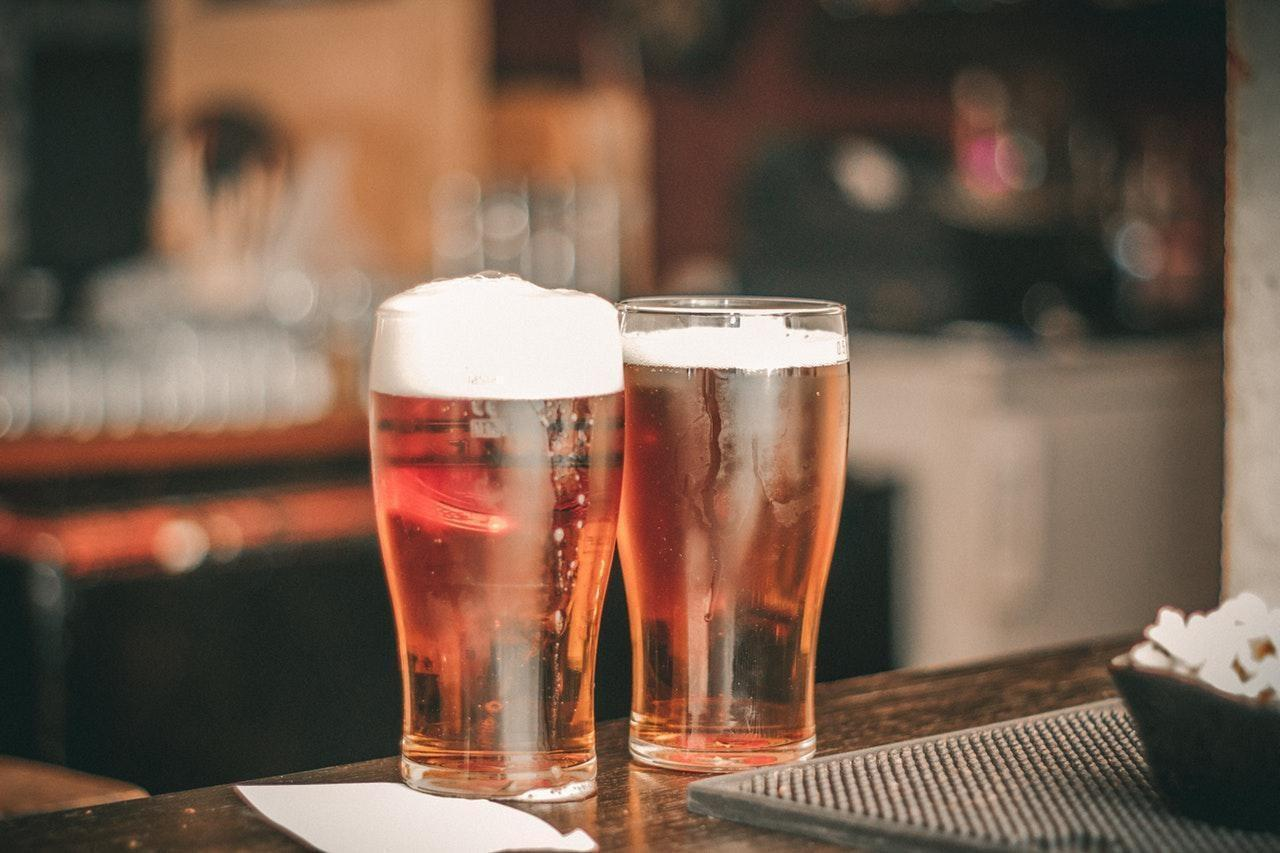glass-normal: (366, 273, 626, 805), (612, 294, 855, 773)
